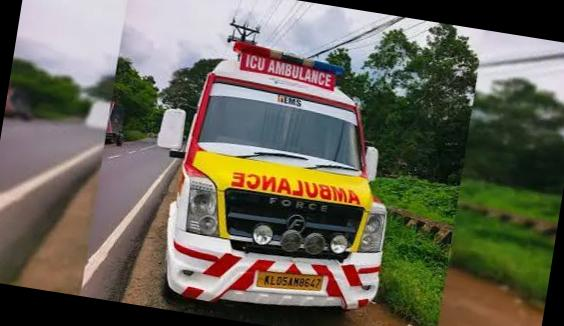ambulance: (134, 26, 414, 326)
